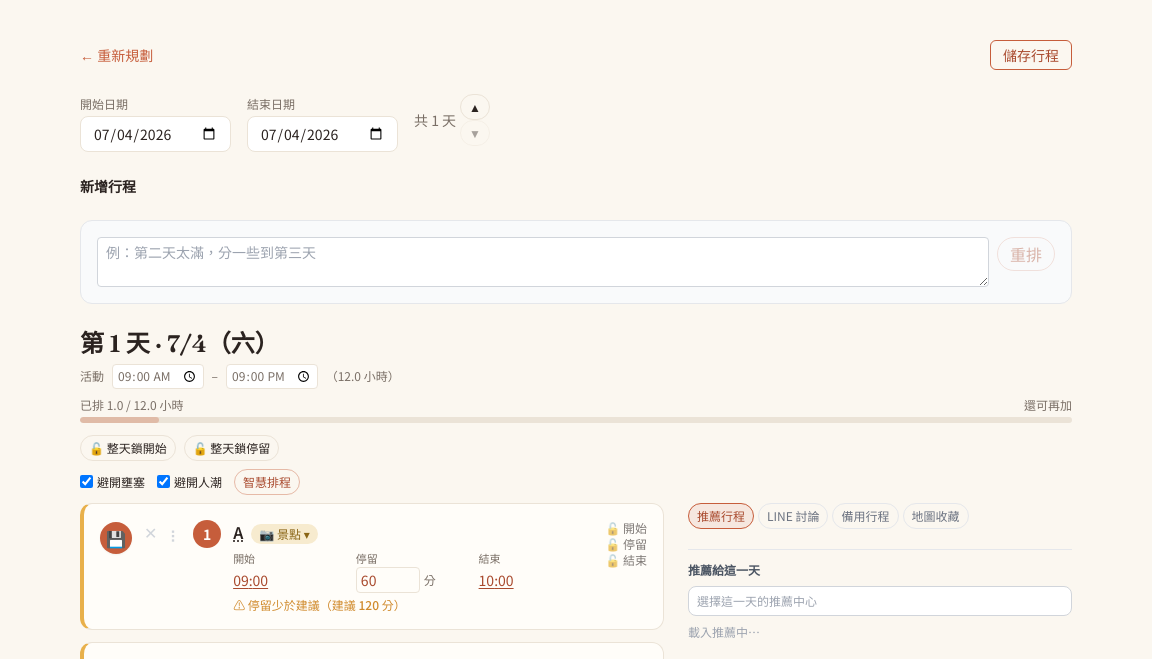
shows an error and keeps order when the action rejects
This screenshot has width=1152, height=659.
Click the button "智慧排程": (267, 482) x1=234 y1=469 x2=300 y2=495
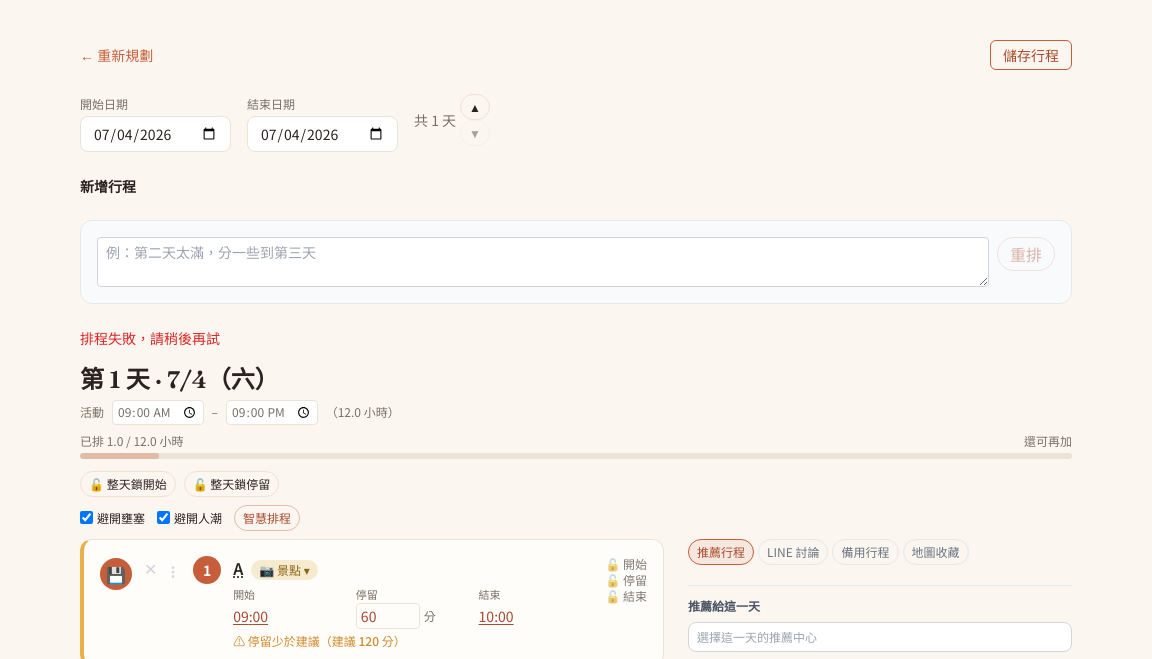
Check: the text "排程失敗，請稍後再試" is shown, box x1=80 y1=328 x2=220 y2=348
